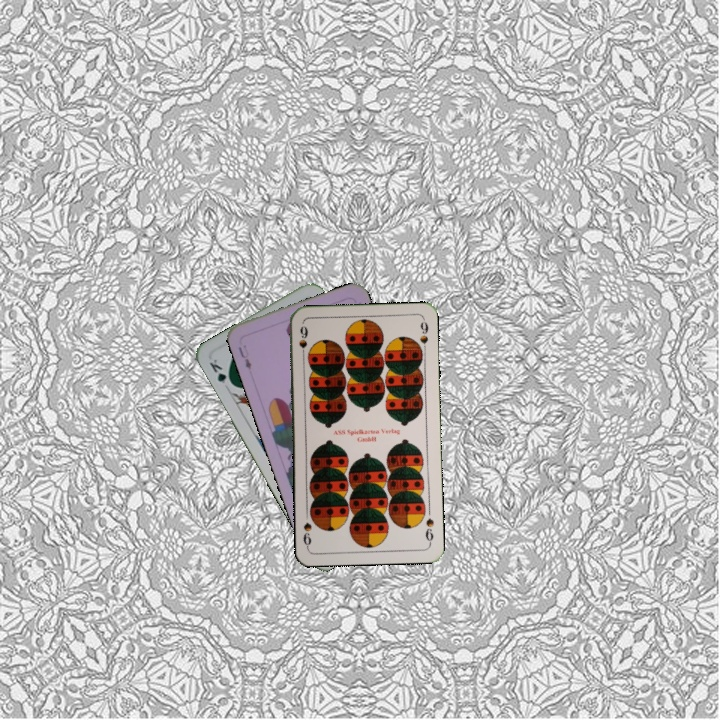EU: (234, 343, 254, 372)
GK: (205, 355, 236, 389)
S9: (295, 322, 310, 361), (421, 514, 436, 546)
